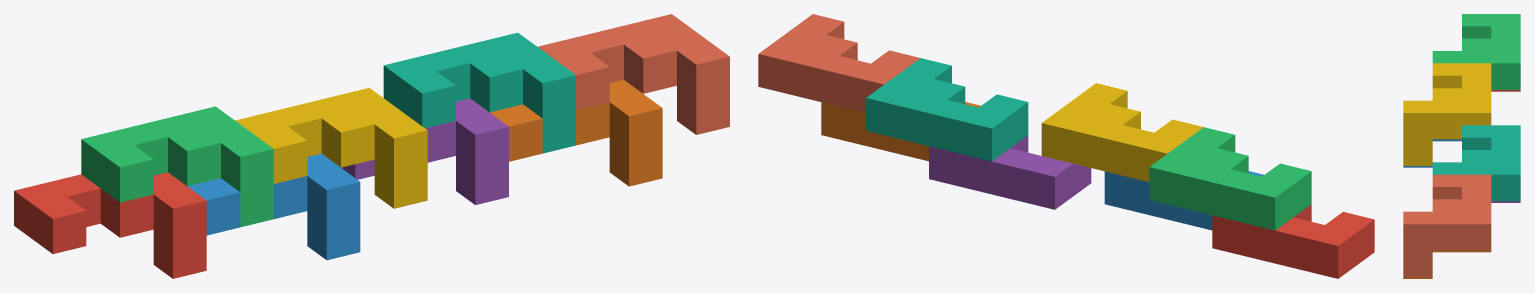
File: tiling.obj
3 renders of one model, left to right at view 1: azimuth 30°, elevation 25°; view 2: azimuth 150°, elevation 25°; view 3: azimuth 270°, elevation 25°, orthographic. The views are drawn at different scales.
Visible parts, largest first — view 1: copy_1_domain_3, copy_1_domain_7, copy_1_domain_4, copy_1_domain_8, copy_1_domain_1, copy_1_domain_2, copy_1_domain_6, copy_1_domain_5; view 2: copy_1_domain_3, copy_1_domain_7, copy_1_domain_4, copy_1_domain_8, copy_1_domain_1, copy_1_domain_5, copy_1_domain_2, copy_1_domain_6; view 3: copy_1_domain_8, copy_1_domain_4, copy_1_domain_7, copy_1_domain_3, copy_1_domain_6, copy_1_domain_2.
Part boxes in pixels (x1,y1,x2,y2): copy_1_domain_3: (81, 106, 273, 227); copy_1_domain_7: (383, 32, 575, 153); copy_1_domain_4: (235, 88, 427, 208); copy_1_domain_8: (537, 14, 729, 134); copy_1_domain_1: (14, 172, 206, 278); copy_1_domain_2: (187, 153, 360, 260); copy_1_domain_6: (490, 80, 662, 186); copy_1_domain_5: (341, 98, 508, 204); copy_1_domain_3: (1149, 127, 1311, 230); copy_1_domain_7: (866, 58, 1028, 161); copy_1_domain_4: (1041, 83, 1203, 181); copy_1_domain_8: (758, 14, 919, 112); copy_1_domain_1: (1212, 204, 1374, 278); copy_1_domain_5: (929, 135, 1091, 209); copy_1_domain_2: (1104, 171, 1263, 230); copy_1_domain_6: (821, 102, 980, 161); copy_1_domain_8: (1403, 174, 1491, 277); copy_1_domain_4: (1403, 63, 1491, 165); copy_1_domain_7: (1432, 125, 1520, 201); copy_1_domain_3: (1432, 14, 1520, 89); copy_1_domain_6: (1403, 250, 1491, 278); copy_1_domain_2: (1403, 139, 1461, 167).
Bounding box in the file's own units: 19 × 3 × 4.
